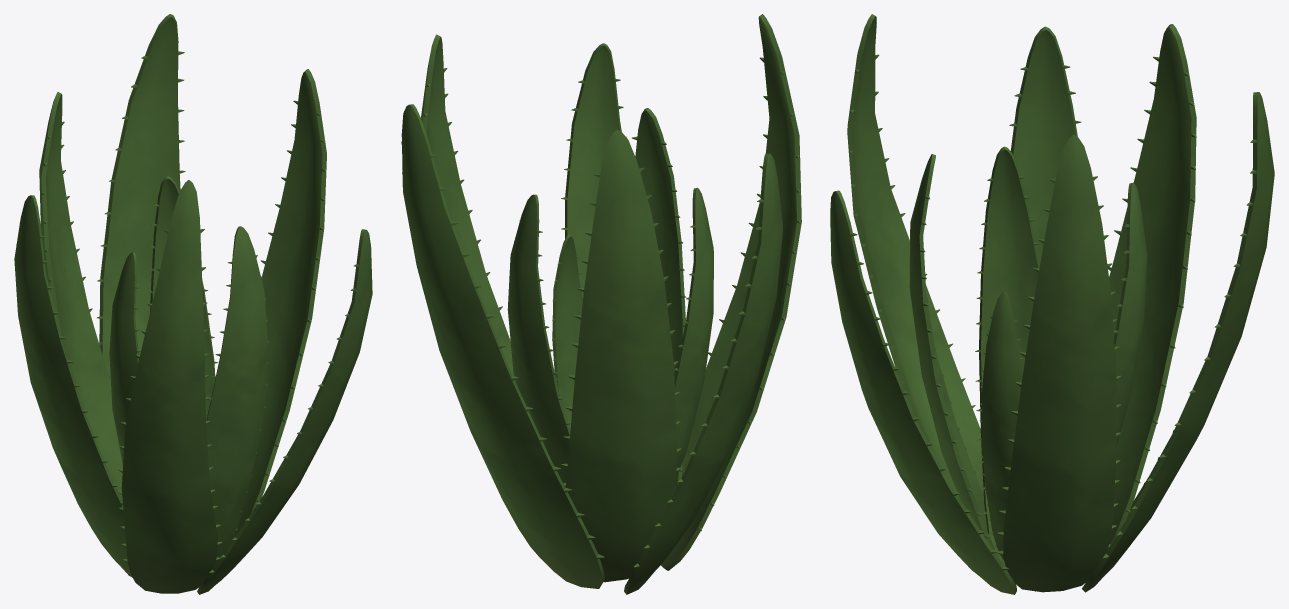
Rendered from D_Plant_004.fbx.
3 renders of one model, left to right at view 1: azimuth 30°, elevation 25°; view 2: azimuth 150°, elevation 25°; view 3: azimuth 270°, elevation 25°, orthographic. The views are drawn at different scales.
Parts seen in each view (by area): view 1: D_Plant_004; view 2: D_Plant_004; view 3: D_Plant_004.
Boxes of the visible parts, x1,y1,x2,y2 form: D_Plant_004: [14, 14, 372, 594]; D_Plant_004: [401, 14, 801, 594]; D_Plant_004: [830, 14, 1274, 594].
Size of the model in its own units: 0.2194 by 0.3186 by 0.2387.
1 material, 1 textured.
